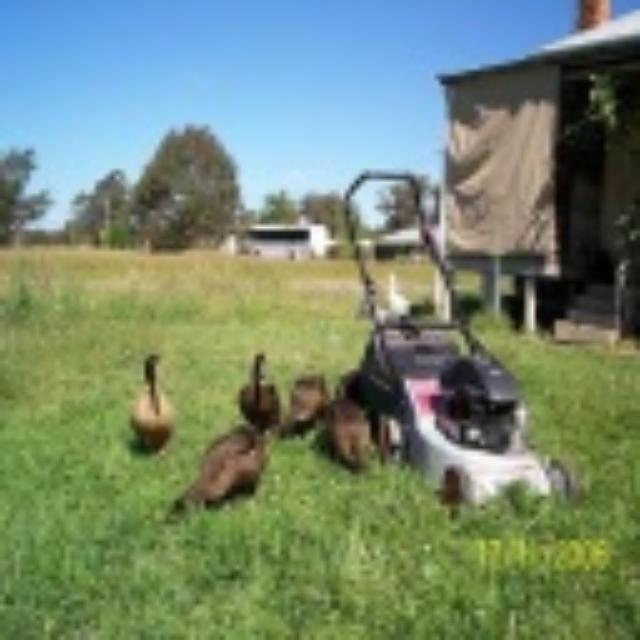Rotary-Mower: (238, 148, 592, 564)
